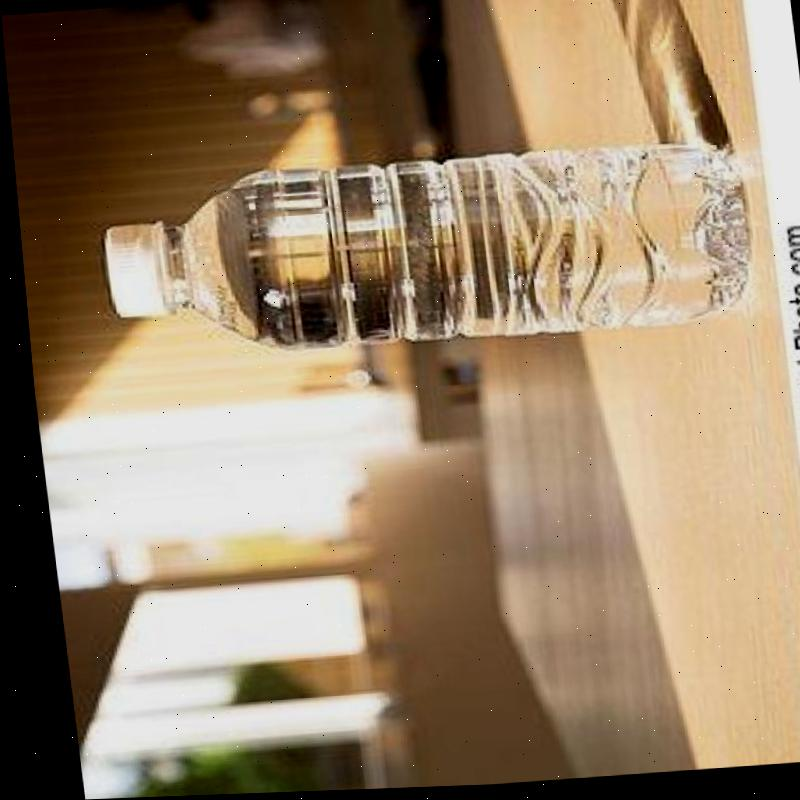botella: (89, 140, 755, 366)
